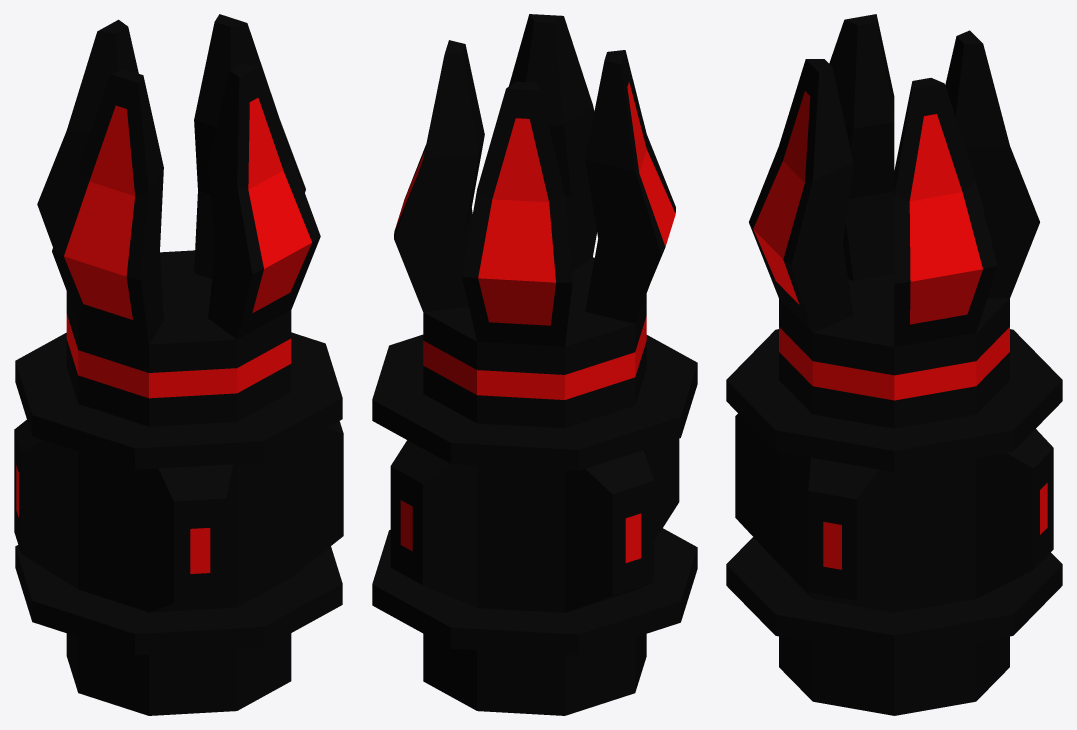
File: mine.fbx
3 views of the same model, side by side, from view 1: azimuth 30°, elevation 25°; view 2: azimuth 150°, elevation 25°; view 3: azimuth 270°, elevation 25° (orthographic).
Visible parts, largest first — view 1: Cylinder015; view 2: Cylinder015; view 3: Cylinder015.
Part boxes in pixels (x1,y1,x2,y2): Cylinder015: [14, 14, 343, 715]; Cylinder015: [372, 14, 697, 715]; Cylinder015: [726, 14, 1062, 715].
Bounding box in the file's own units: 28.71 × 57.97 × 28.71.
